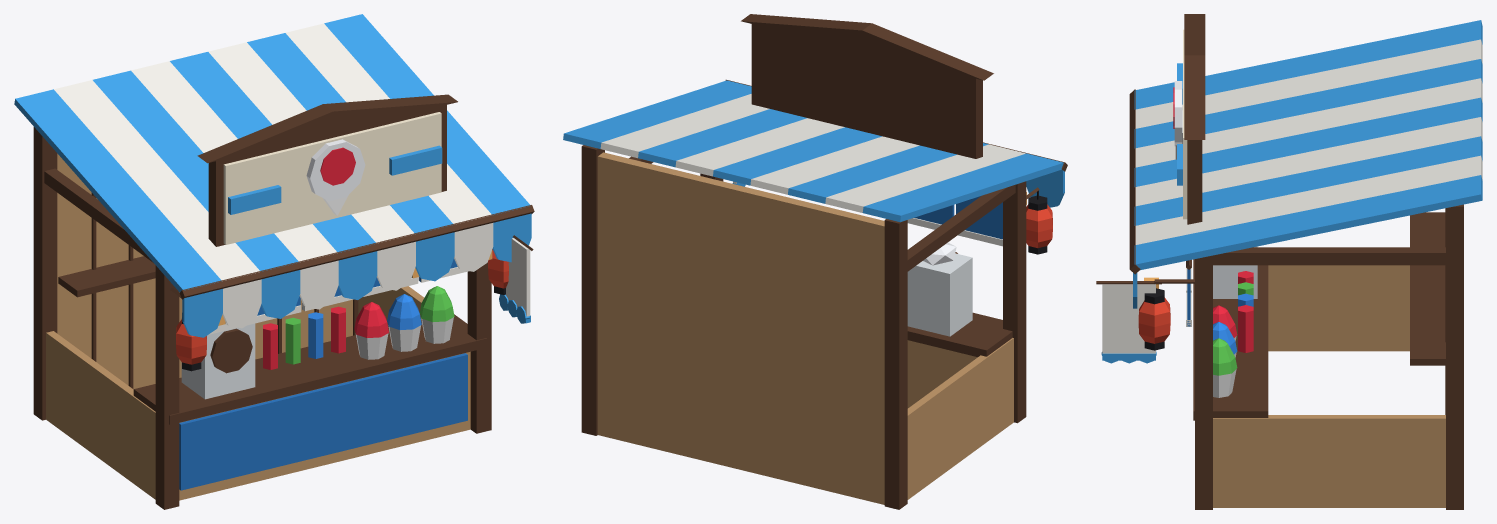
The model's file is stall-kakigori.glb.
3 renders of one model, left to right at view 1: azimuth 30°, elevation 25°; view 2: azimuth 150°, elevation 25°; view 3: azimuth 270°, elevation 25°, orthographic. The views are drawn at different scales.
Visible parts, largest first — view 1: StallKakigori_Wood, StallKakigori_AwningA, StallKakigori_AwningB, StallKakigori_WoodLight, StallKakigori_Noren, StallKakigori_Sign, StallKakigori_SyrupR, StallKakigori_Wave, StallKakigori_Machine, StallKakigori_Cup, StallKakigori_Ice, StallKakigori_SyrupG (+4 smaller); view 2: StallKakigori_WoodLight, StallKakigori_Wood, StallKakigori_AwningA, StallKakigori_AwningB, StallKakigori_Machine, StallKakigori_Noren, StallKakigori_Lanterns; view 3: StallKakigori_AwningA, StallKakigori_WoodLight, StallKakigori_Wood, StallKakigori_AwningB, StallKakigori_Flag, StallKakigori_SyrupR, StallKakigori_Lanterns, StallKakigori_Machine, StallKakigori_SyrupG, StallKakigori_Wave, StallKakigori_Sign, StallKakigori_SyrupB (+2 smaller).
Boxes of the visible parts, x1,y1,x2,y2 form: StallKakigori_Wood: (33, 94, 534, 509); StallKakigori_AwningA: (14, 14, 531, 337); StallKakigori_AwningB: (54, 23, 493, 328); StallKakigori_WoodLight: (46, 153, 470, 500); StallKakigori_Noren: (179, 259, 467, 490); StallKakigori_Sign: (223, 112, 441, 244); StallKakigori_SyrupR: (263, 147, 388, 369); StallKakigori_Wave: (228, 145, 530, 323); StallKakigori_Machine: (181, 318, 255, 399); StallKakigori_Cup: (323, 195, 453, 359); StallKakigori_Ice: (306, 139, 365, 201); StallKakigori_SyrupG: (285, 286, 454, 364); StallKakigori_WoodLight: (597, 152, 1013, 504); StallKakigori_Wood: (581, 14, 1067, 509); StallKakigori_AwningA: (563, 80, 1064, 222); StallKakigori_AwningB: (600, 94, 1025, 212); StallKakigori_Machine: (907, 253, 972, 336); StallKakigori_Noren: (914, 196, 1002, 239); StallKakigori_Lanterns: (1026, 204, 1052, 248); StallKakigori_AwningA: (1133, 20, 1482, 308); StallKakigori_WoodLight: (1213, 265, 1445, 507); StallKakigori_Wood: (1096, 14, 1463, 509); StallKakigori_AwningB: (1135, 39, 1482, 244); StallKakigori_Flag: (1102, 284, 1155, 353); StallKakigori_SyrupR: (1173, 87, 1253, 352); StallKakigori_Lanterns: (1138, 297, 1170, 343); StallKakigori_Machine: (1213, 246, 1257, 298); StallKakigori_SyrupG: (1213, 282, 1253, 375); StallKakigori_Wave: (1101, 63, 1182, 363); StallKakigori_Sign: (1183, 29, 1187, 219); StallKakigori_SyrupB: (1213, 293, 1253, 354).
Bounding box in the file's own units: 13.9 × 13.75 × 12.93.
